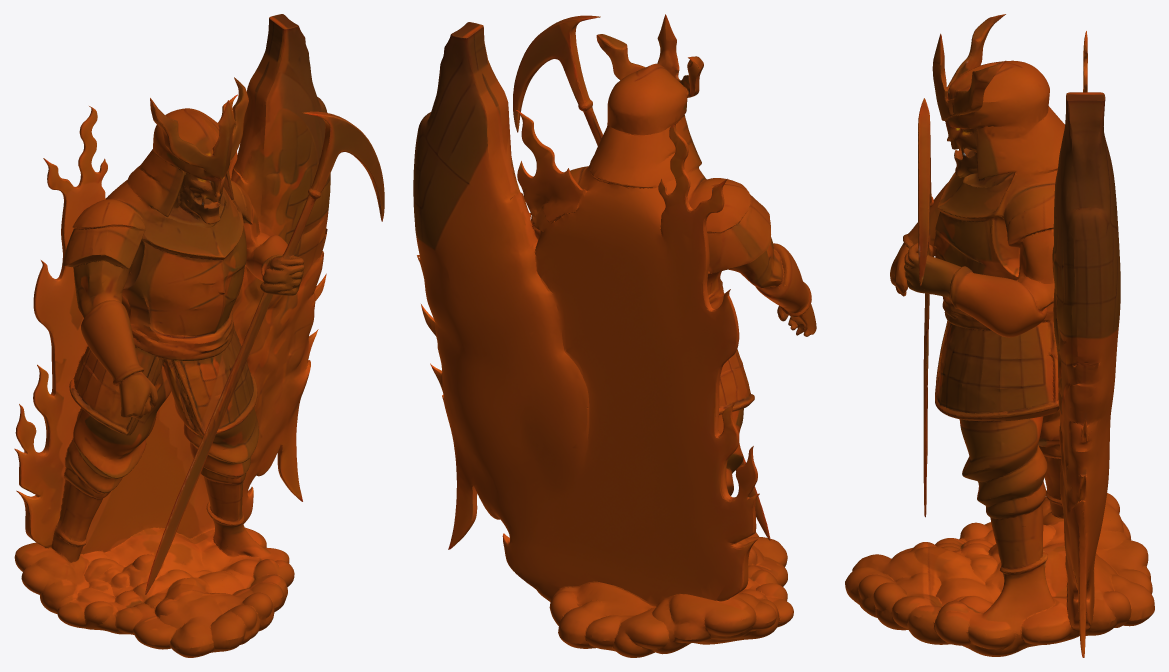
Rendered from darko.glb.
3 renders of one model, left to right at view 1: azimuth 30°, elevation 25°; view 2: azimuth 150°, elevation 25°; view 3: azimuth 270°, elevation 25°, orthographic. The views are drawn at different scales.
Parts seen in each view (by area): view 1: Object_3, Object_4; view 2: Object_3, Object_4; view 3: Object_3, Object_4.
Boxes of the visible parts, bbox=[...] form: Object_3: bbox=[14, 14, 384, 657]; Object_4: bbox=[79, 26, 384, 656]; Object_3: bbox=[413, 15, 816, 657]; Object_4: bbox=[415, 14, 708, 653]; Object_3: bbox=[845, 14, 1152, 657]; Object_4: bbox=[851, 14, 1154, 657].
Size of the model in its own units: 1.21 by 1.9 by 0.9012.
1 material, 1 textured.
